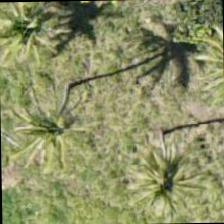Kelapa_Sawit: (11, 73, 103, 165), (116, 133, 209, 223), (0, 1, 75, 71)
